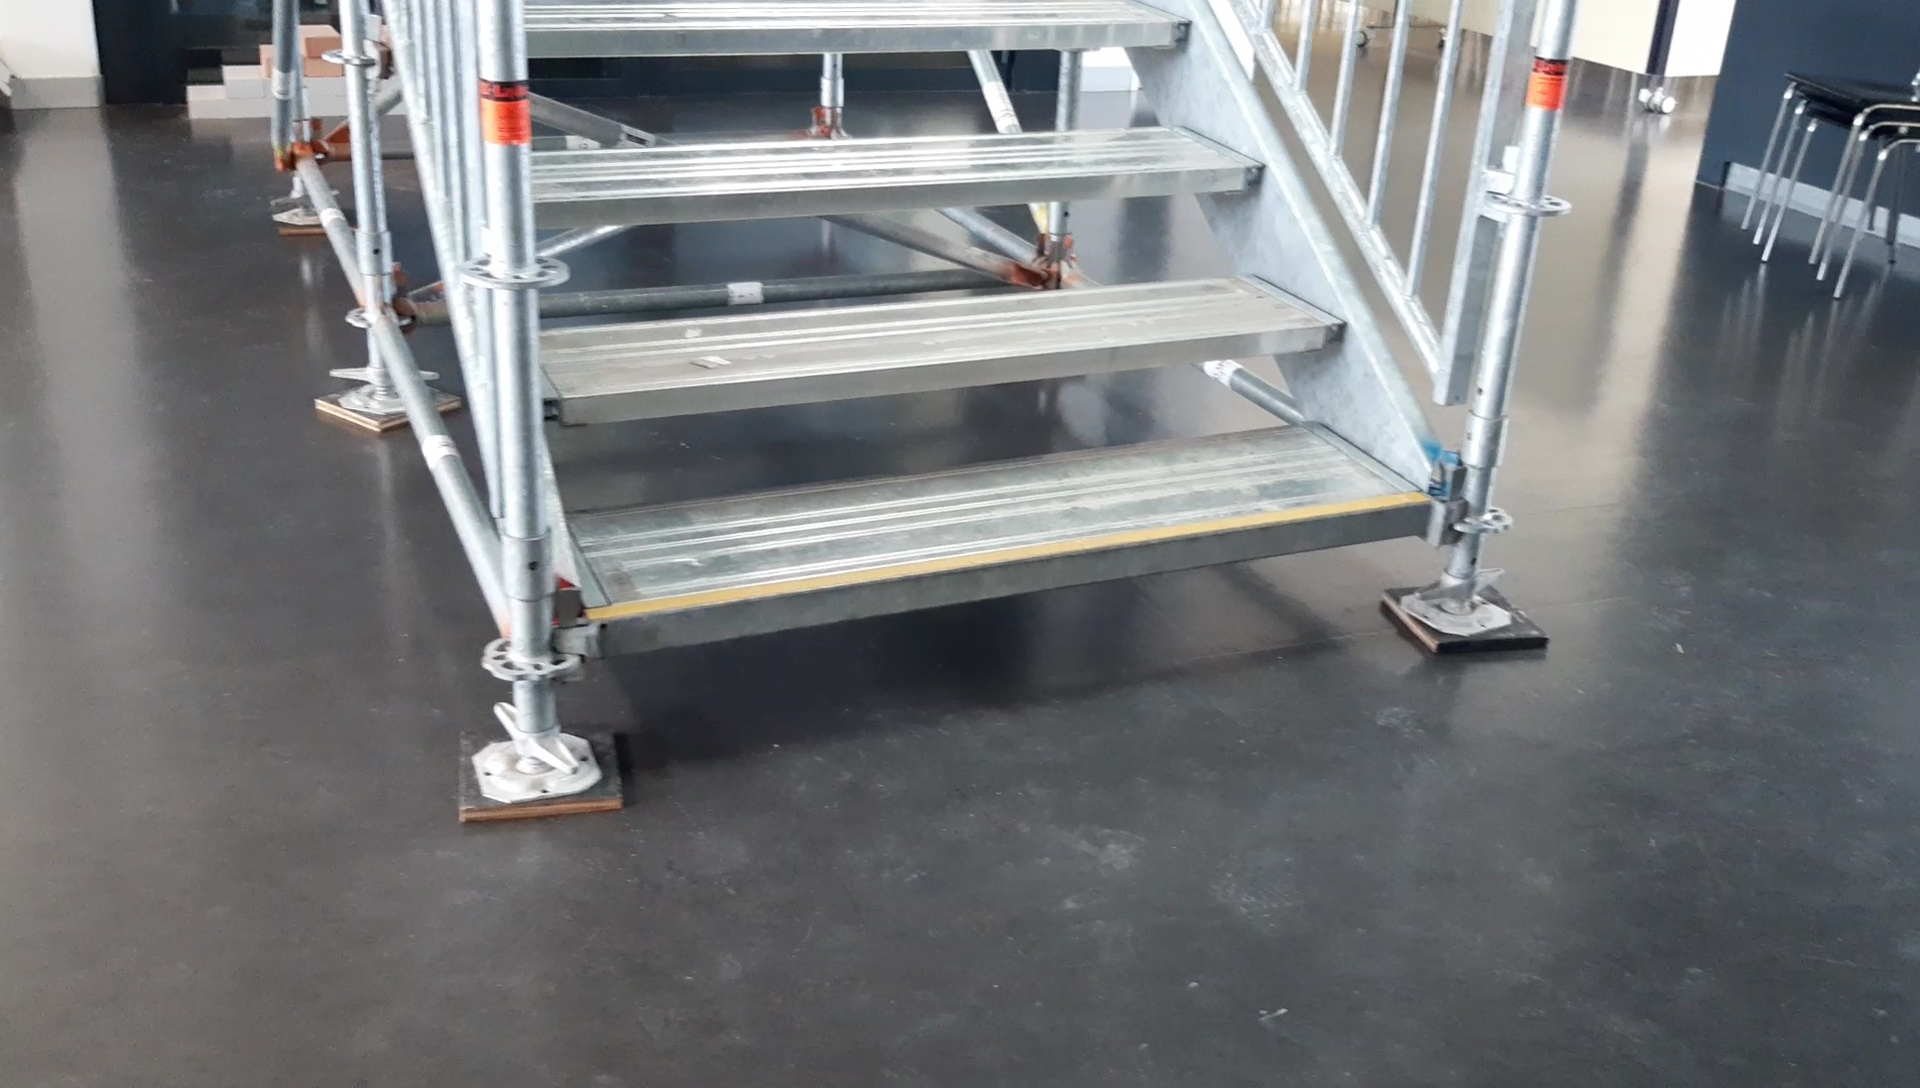edge: (605, 497, 1429, 655), (542, 320, 1342, 422), (535, 164, 1265, 223), (524, 17, 1191, 55)
stairs: (458, 3, 1549, 814)
